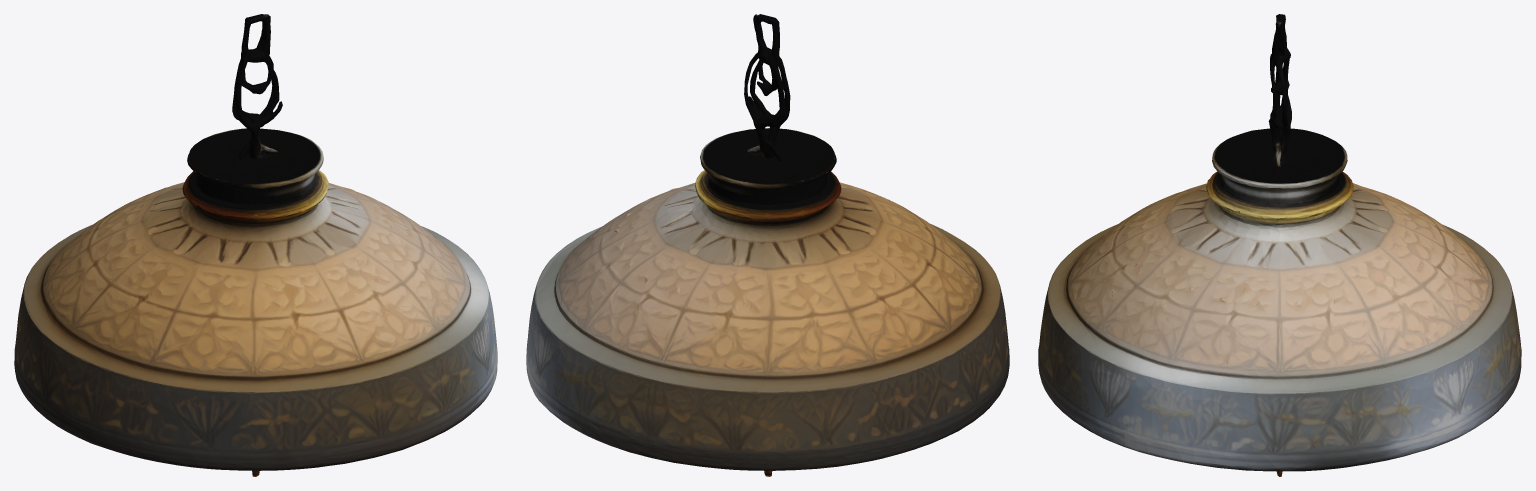
The model's file is porcelain-pendant-light-art-deco.jpeg.glb.
3 views of the same model, side by side, from view 1: azimuth 30°, elevation 25°; view 2: azimuth 150°, elevation 25°; view 3: azimuth 270°, elevation 25° (orthographic).
Visible parts, largest first — view 1: world; view 2: world; view 3: world.
Boxes of the visible parts, x1,y1,x2,y2 form: world: (14, 14, 497, 476); world: (526, 14, 1009, 476); world: (1038, 14, 1521, 476).
Size of the model in its own units: 0.9537 by 1 by 0.955.
Materials: 1 (1 with a texture image).
